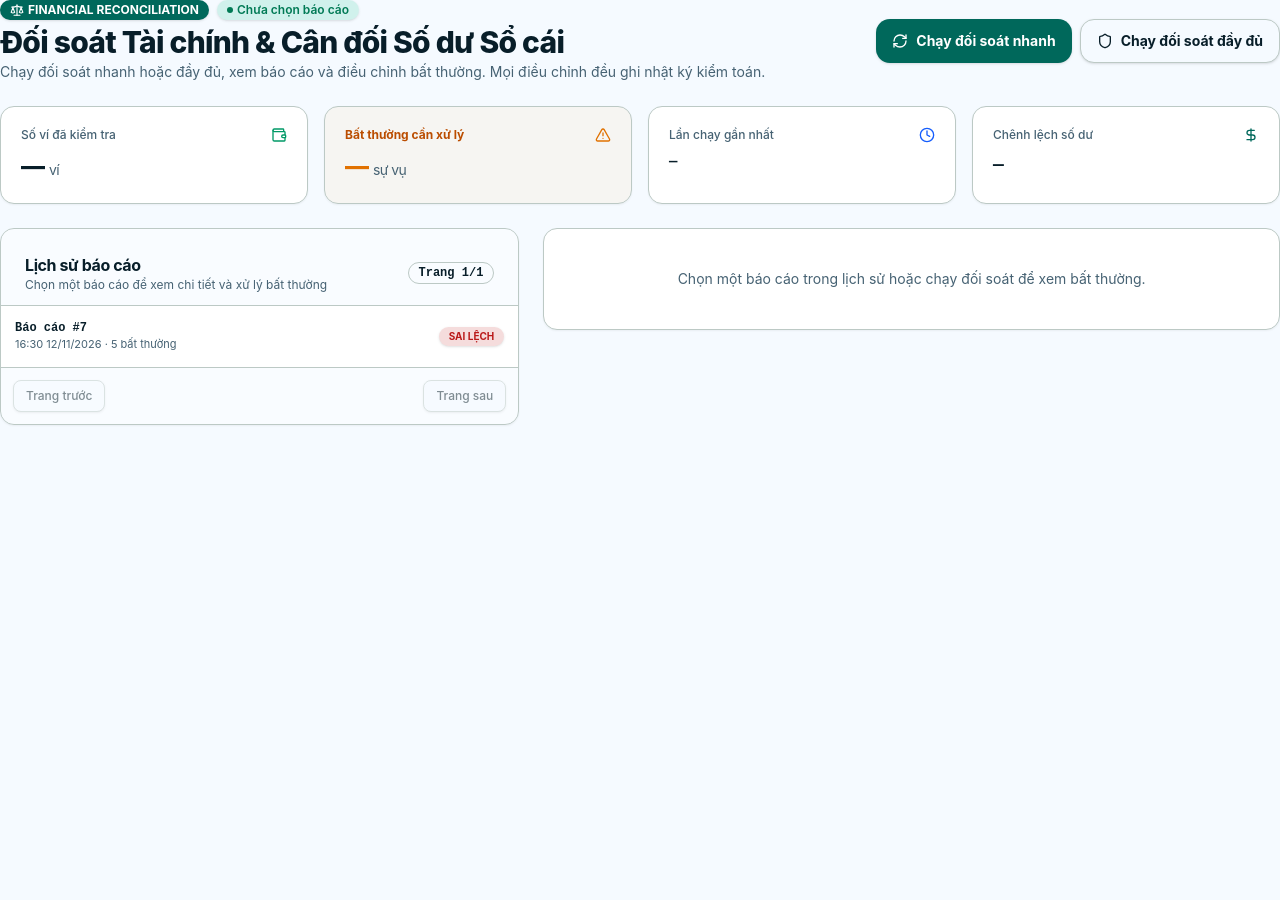
Reconciliation adjustment [N18] › gửi đúng body điều chỉnh và đóng hộp thoại khi thành công
Click the text "Báo cáo #7": (51, 328) [15,321,87,335]
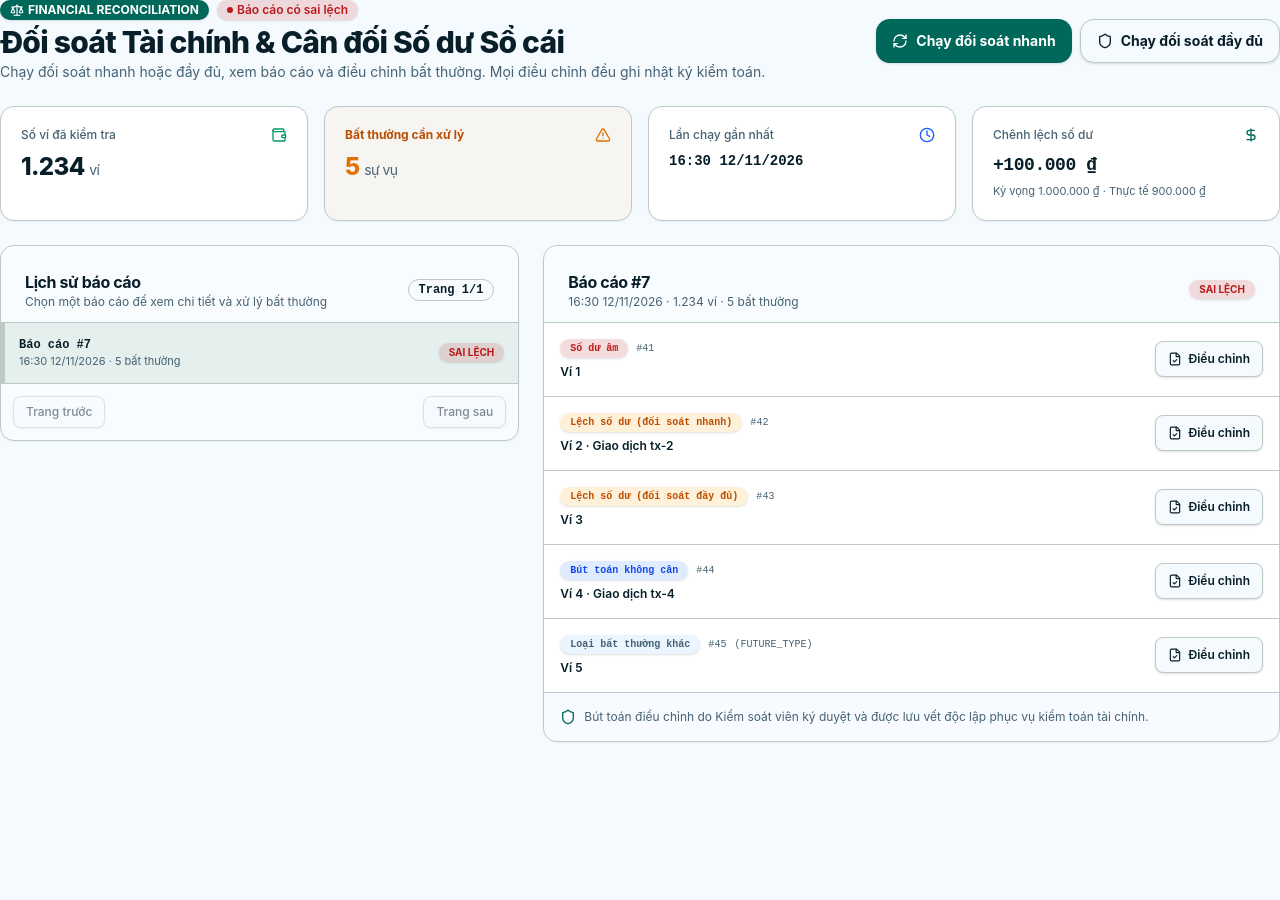
Click the button "Điều chỉnh" in the row of "41": (1209, 359) [1155,341,1263,377]
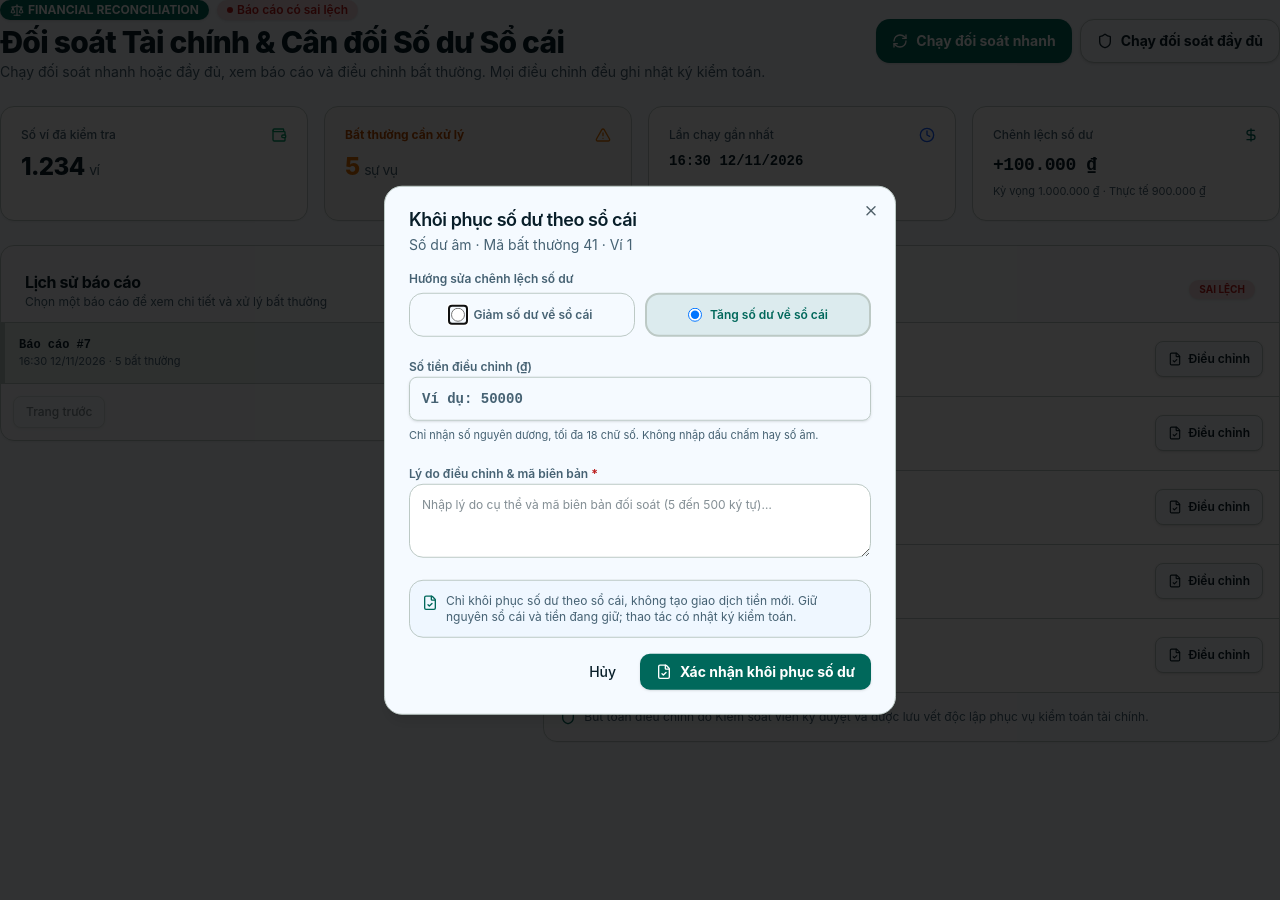
In the field labelled "Số tiền điều chỉnh (₫)": (640, 399) [409,377,871,421], type "50000"
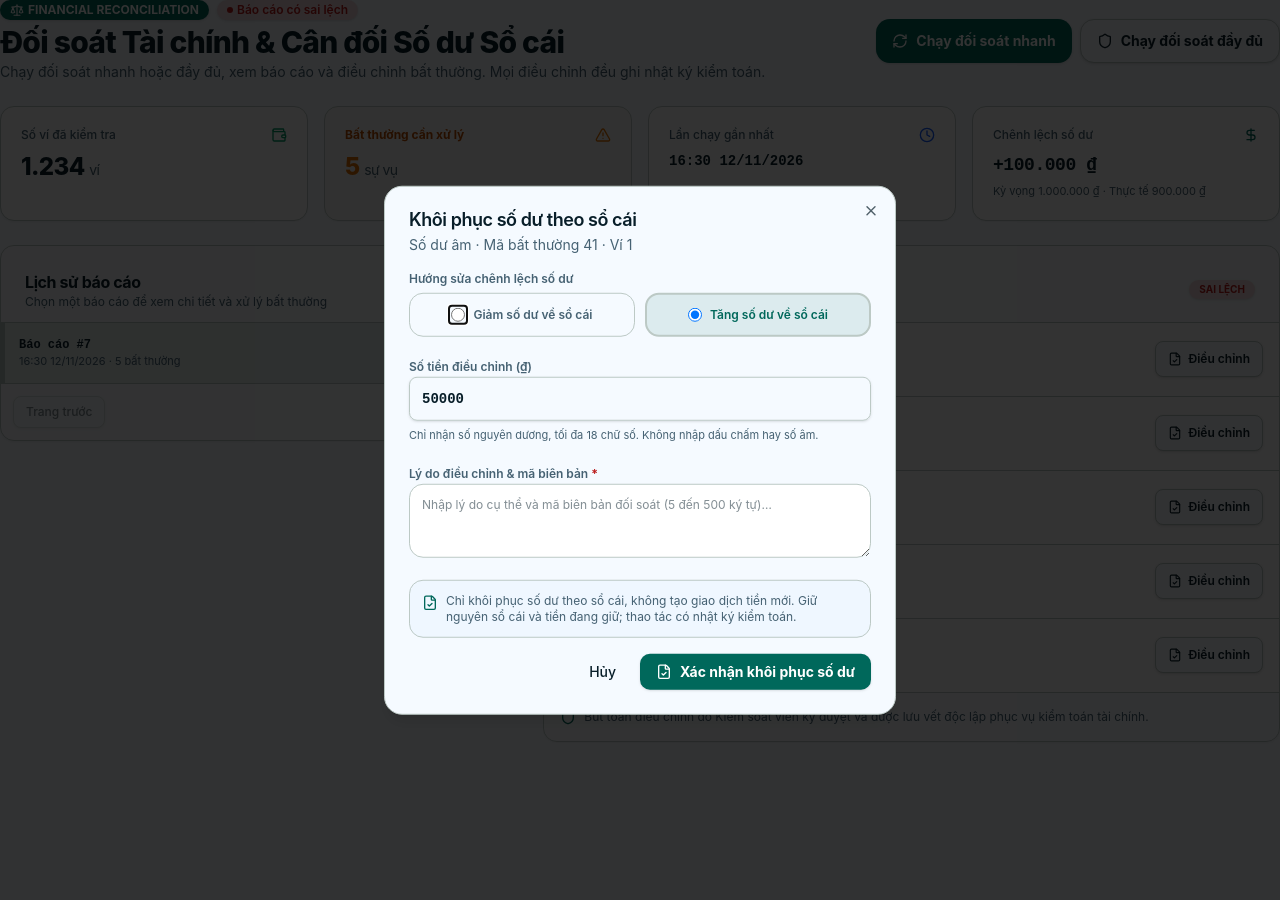
In the text box labelled "Lý do điều chỉnh & mã biên bản *": (640, 520) [409,483,871,557], type "  Bù lệch theo biên bản BB-01  "
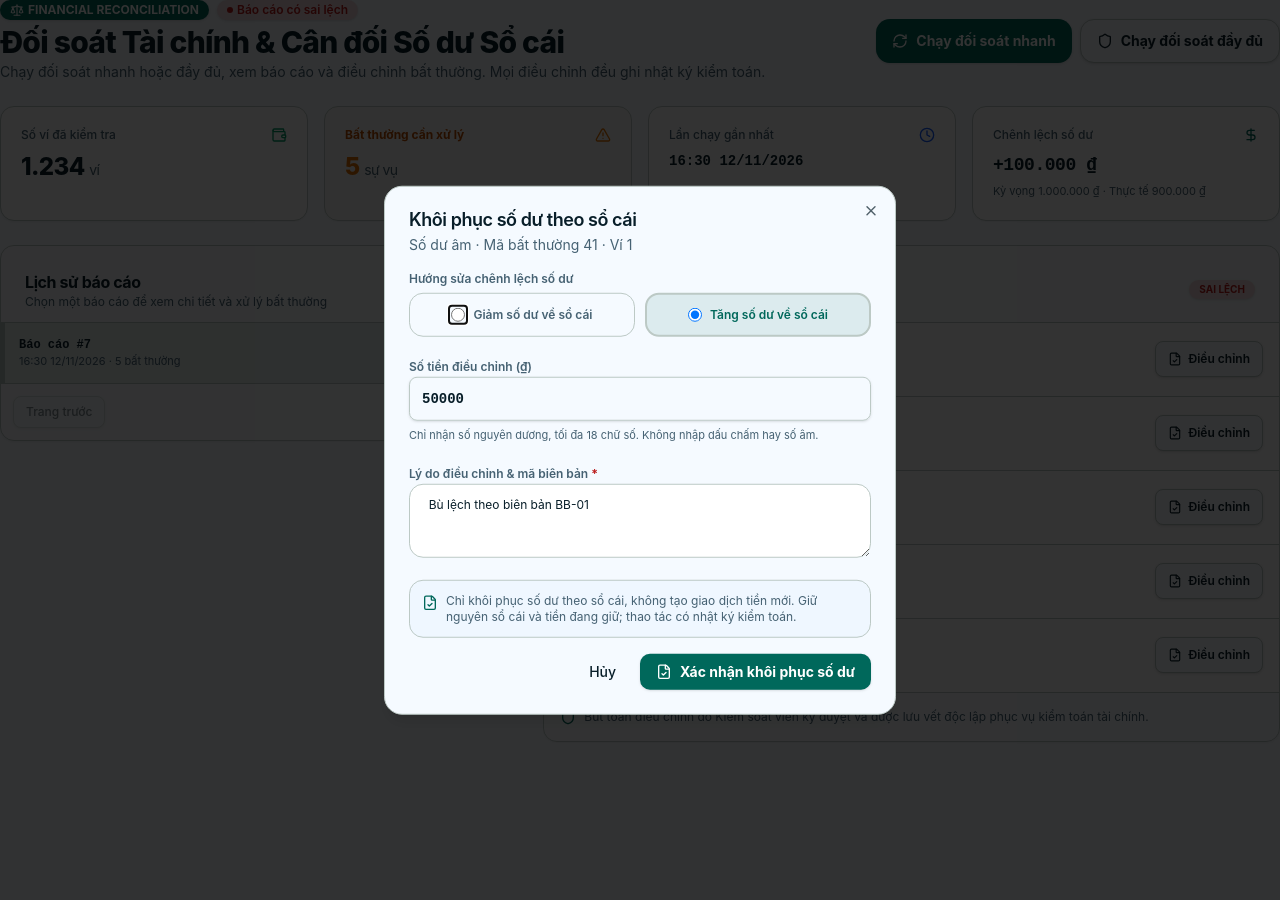
Click the button "Xác nhận khôi phục số dư": (756, 671) [640,653,871,689]
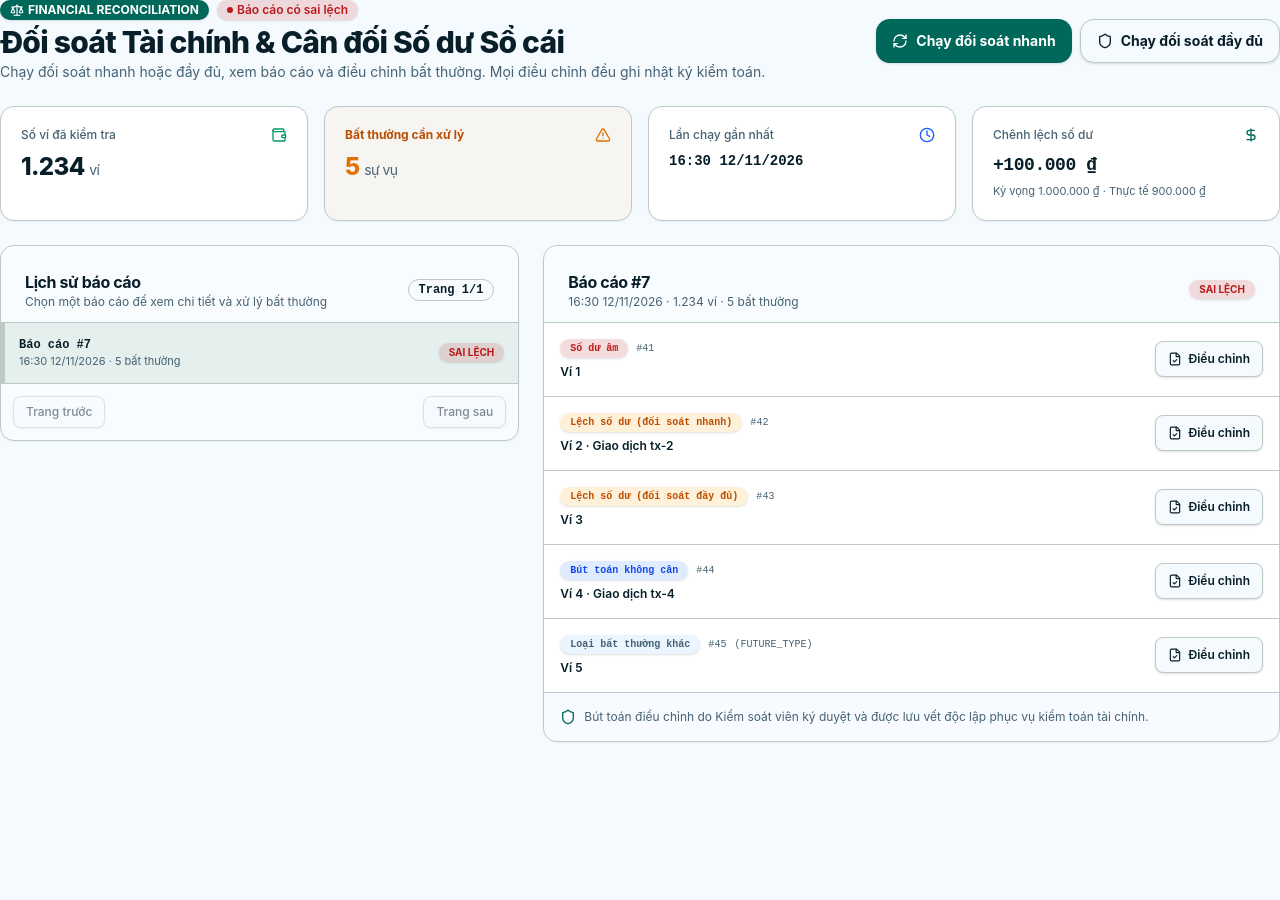
Result: the label labelled "Số tiền điều chỉnh" is gone
